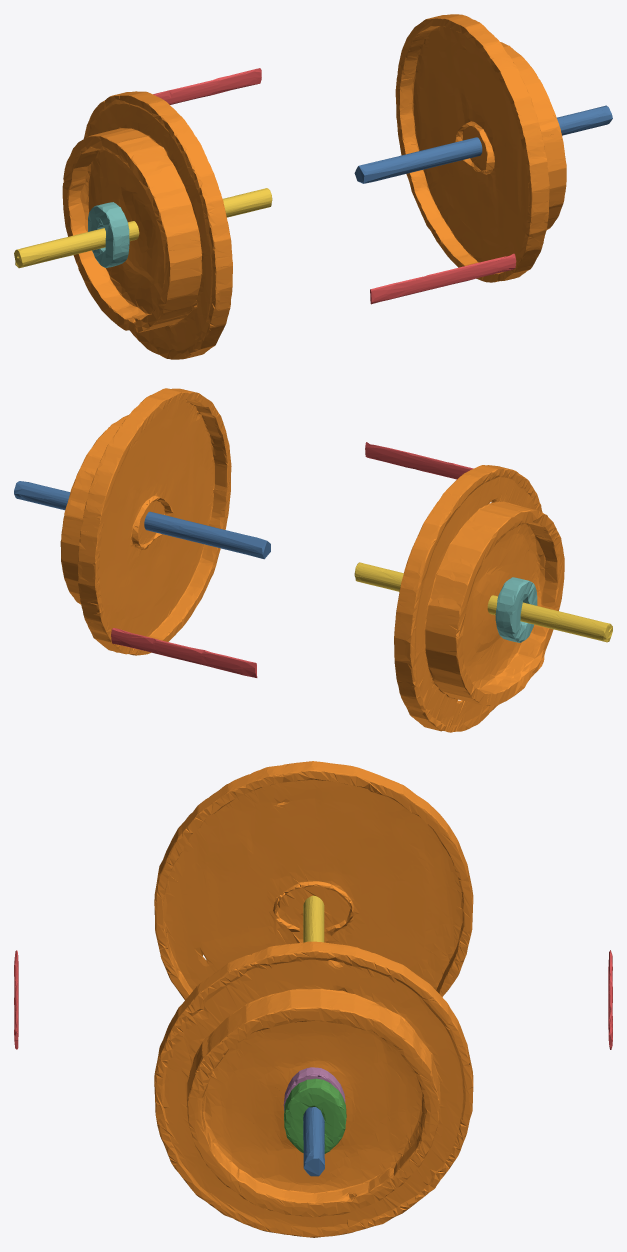
Rendered from dumbbell_ours_exploded.glb.
The picture shows the model from 3 angles, top to bottom: view 1: azimuth 30°, elevation 25°; view 2: azimuth 150°, elevation 25°; view 3: azimuth 270°, elevation 25°; orthographic projection. The views are drawn at different scales.
Parts seen in each view (by area): view 1: part_01, part_02, part_00, part_05, part_03; view 2: part_01, part_02, part_00, part_05, part_03; view 3: part_01, part_04, part_00, part_05, part_02, part_06.
Boxes of the visible parts, x1,y1,x2,y2 form: part_01: [62, 14, 566, 359]; part_02: [153, 68, 516, 304]; part_00: [354, 105, 612, 183]; part_05: [14, 188, 272, 268]; part_03: [88, 202, 129, 267]; part_01: [60, 388, 564, 732]; part_02: [111, 442, 473, 677]; part_00: [14, 481, 270, 559]; part_05: [354, 562, 612, 642]; part_03: [495, 577, 537, 642]; part_01: [154, 761, 473, 1237]; part_04: [284, 1078, 346, 1153]; part_00: [303, 1107, 324, 1176]; part_05: [303, 895, 324, 942]; part_02: [14, 950, 612, 1049]; part_06: [283, 1067, 345, 1110].
Bounding box in the file's own units: 1.17 × 0.4665 × 0.8805.
